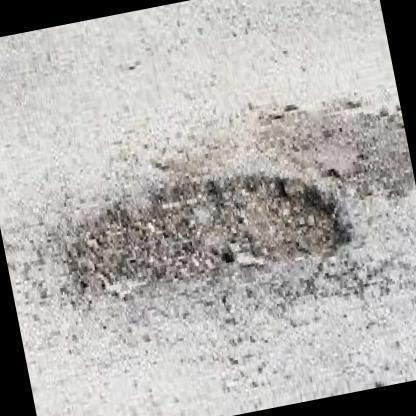pothole: (62, 176, 357, 304)
